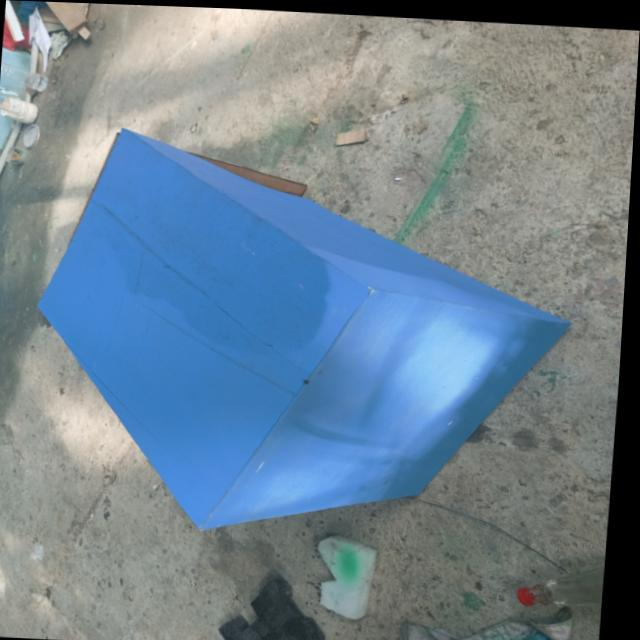blue_box: (17, 119, 588, 542)
